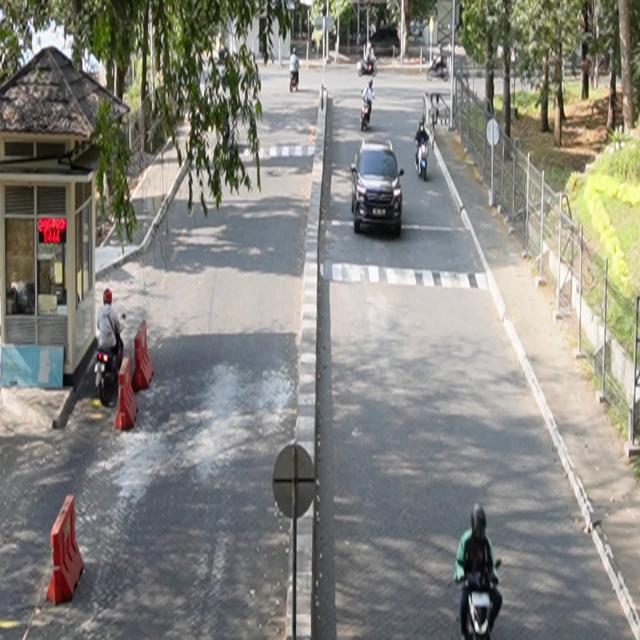car: (351, 137, 405, 237)
